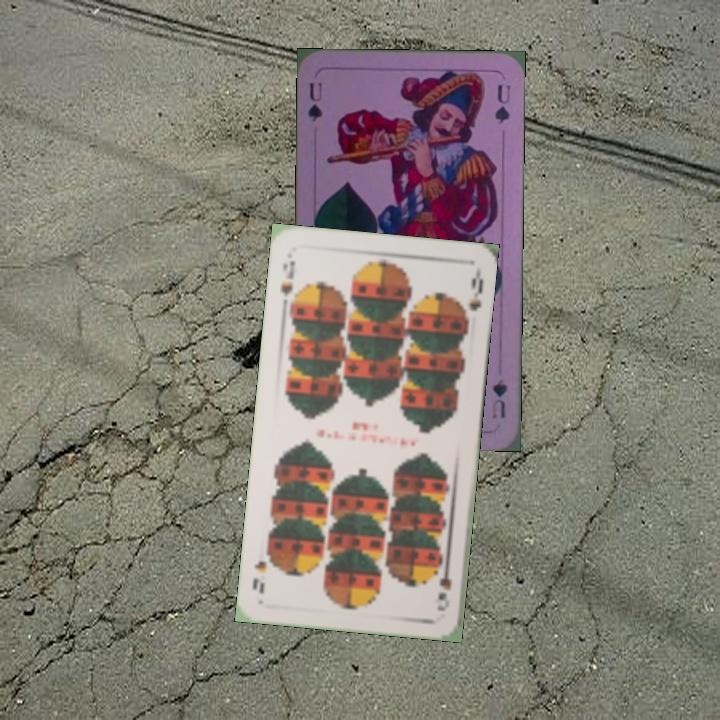GU: (488, 375, 510, 422), (304, 78, 325, 124)
S9: (432, 555, 454, 614), (276, 257, 298, 309)
